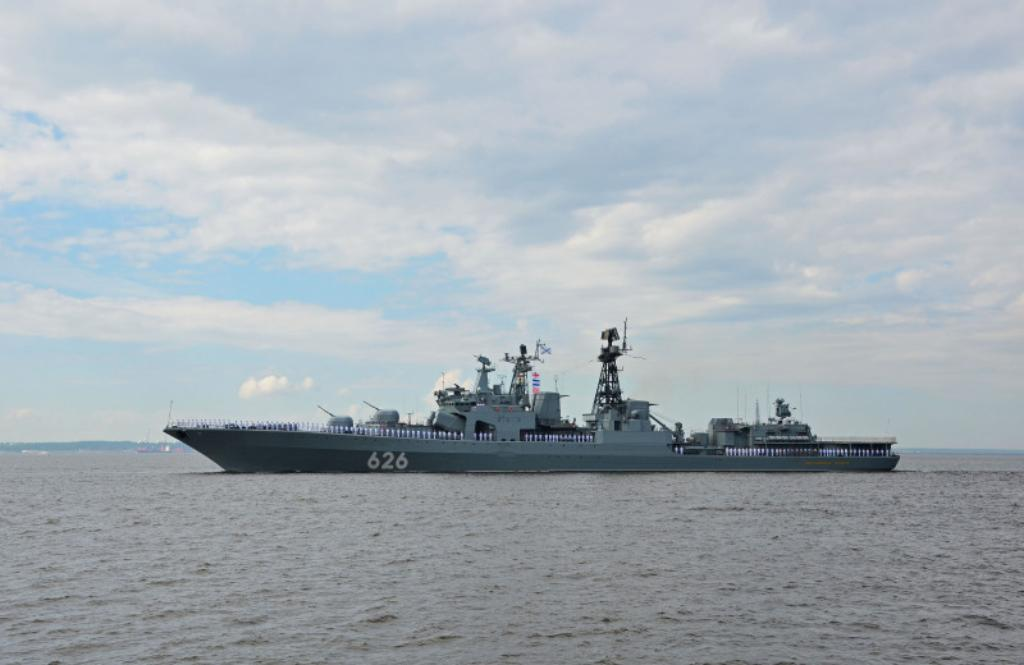Warship: (160, 314, 900, 478)
